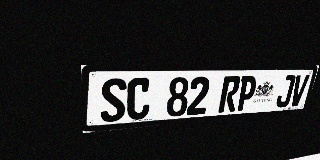2: (186, 77, 211, 115)
8: (166, 77, 191, 117)
C: (126, 78, 152, 121)
J: (275, 75, 296, 108)
P: (235, 76, 258, 111)
R: (218, 76, 241, 113)
S: (101, 78, 127, 123)
V: (288, 75, 310, 107)
